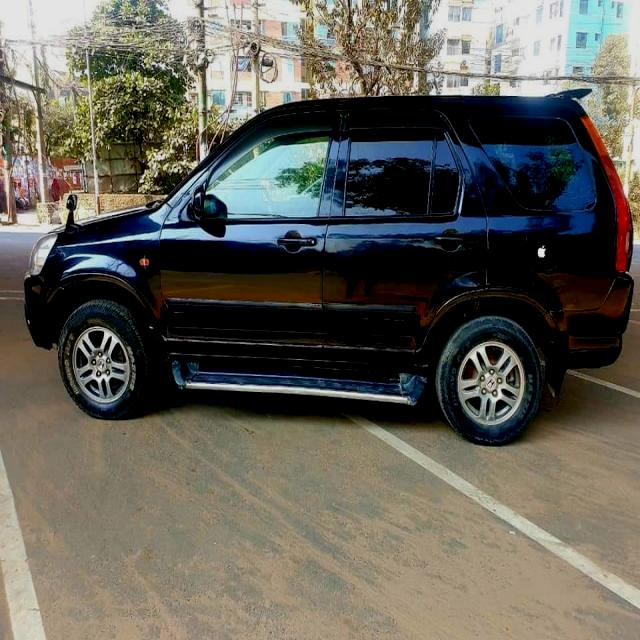black: (18, 90, 640, 431)
